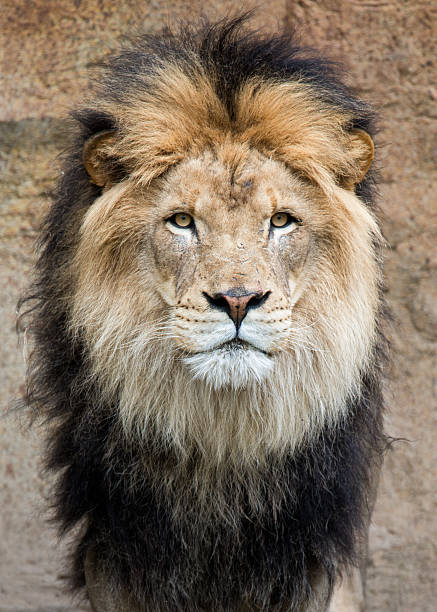lion: (9, 6, 425, 594)
